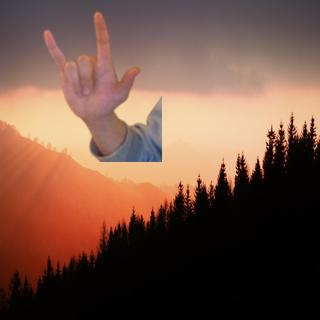ILY: (41, 8, 145, 121)
